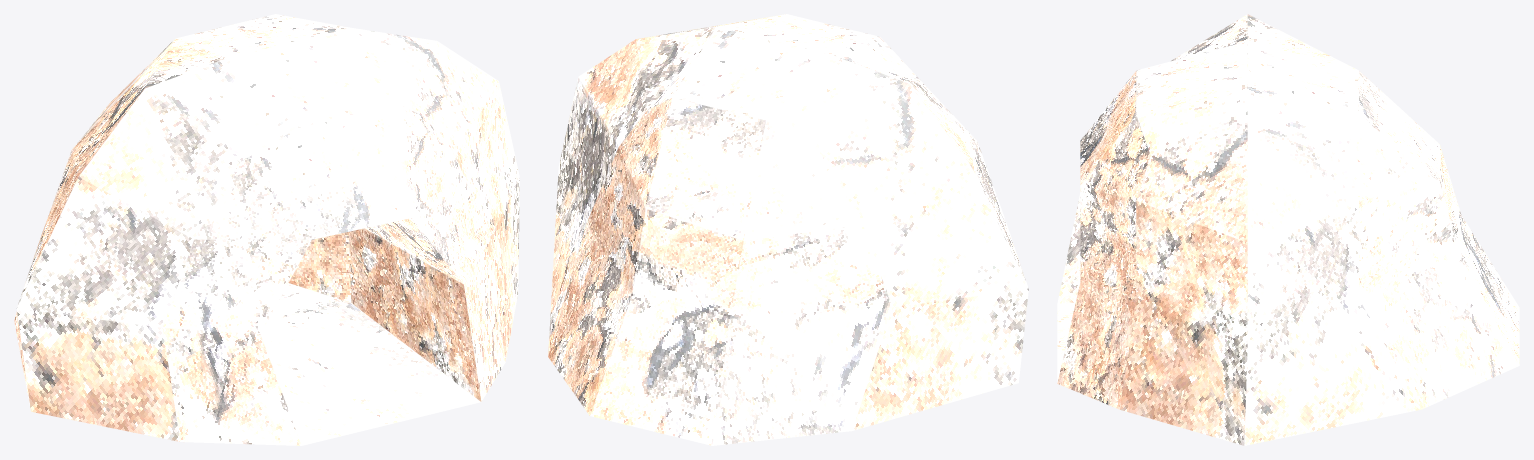
The model's file is cave.glb.
3 views of the same model, side by side, from view 1: azimuth 30°, elevation 25°; view 2: azimuth 150°, elevation 25°; view 3: azimuth 270°, elevation 25° (orthographic). The views are drawn at different scales.
Parts seen in each view (by area): view 1: cave; view 2: cave; view 3: cave.
Boxes of the visible parts, x1,y1,x2,y2 form: cave: (14,14,519,445); cave: (548,14,1028,445); cave: (1057,14,1519,445).
Size of the model in its own units: 8.07 by 4.66 by 7.06.
